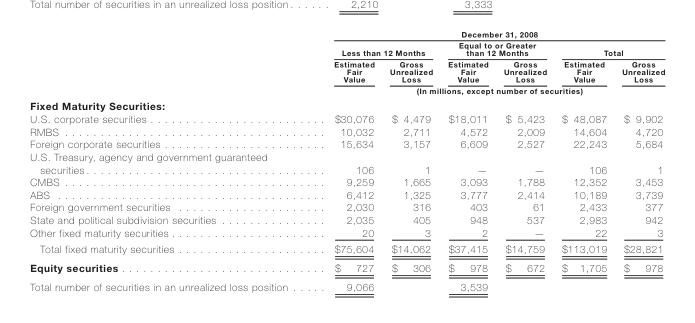table: (29, 28, 664, 292)
table column: (29, 28, 310, 292), (310, 28, 381, 292), (553, 28, 613, 292), (381, 28, 439, 292), (495, 28, 553, 292), (439, 28, 495, 292), (613, 28, 664, 292)
table column header: (29, 28, 664, 97)
table projected row header: (29, 97, 664, 112)
table row: (29, 57, 664, 84), (29, 150, 664, 175), (29, 257, 664, 277), (29, 39, 664, 57), (29, 240, 664, 257), (29, 97, 664, 112), (29, 225, 664, 240), (29, 277, 664, 292), (29, 84, 664, 97), (29, 124, 664, 137), (29, 137, 664, 150), (29, 175, 664, 188), (29, 200, 664, 213), (29, 112, 664, 124), (29, 188, 664, 200), (29, 213, 664, 225), (29, 28, 664, 39)
table spanning cell: (310, 84, 664, 97), (310, 28, 664, 39), (310, 39, 439, 57), (439, 39, 553, 57), (553, 39, 664, 57)
